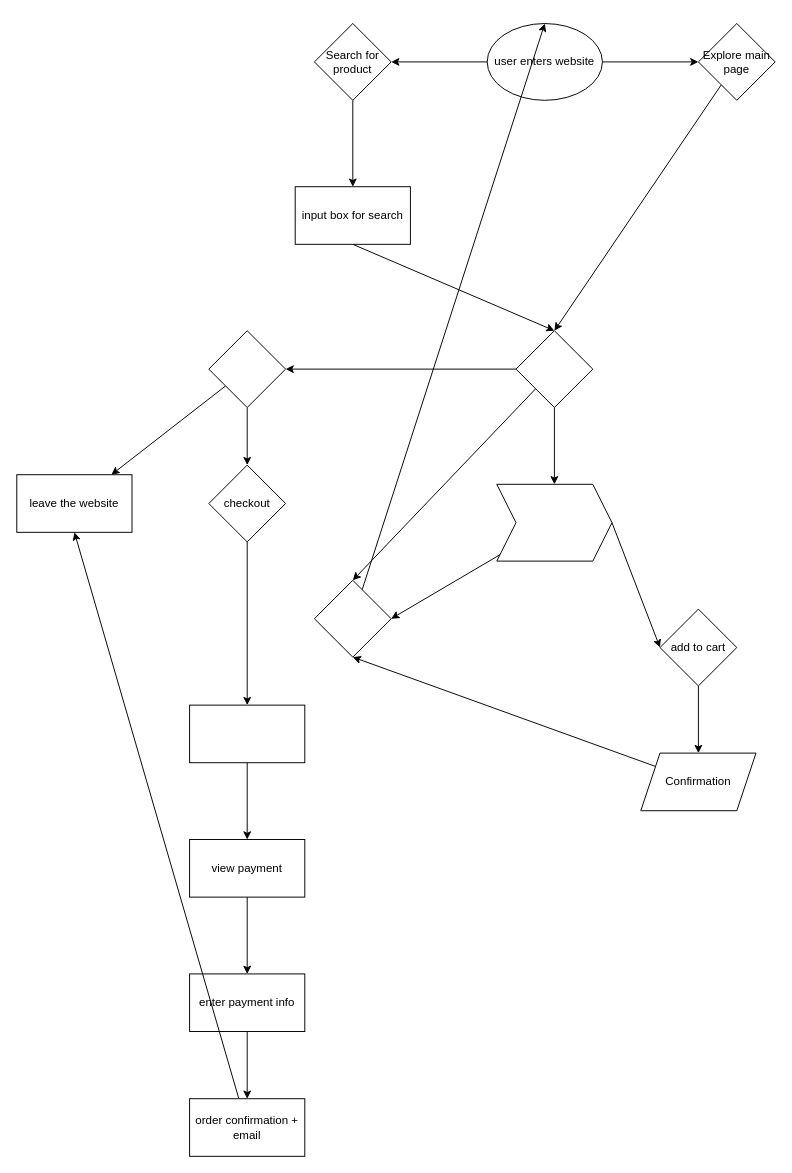
The diagram is 792 pixels wide and 1173 high, and some of its shapes have lost their labels. Here are the shapes that lost their labels. From the top down, the box of each, then its label:
(208, 330, 286, 408): not continue shopping
(515, 330, 593, 408): View a product
(496, 483, 612, 561): products webpage opens
(313, 579, 391, 657): Continue shopping
(189, 704, 305, 763): view cart
